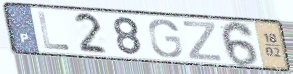2: (73, 12, 111, 57)
6: (219, 20, 261, 68)
8: (112, 15, 145, 57)
G: (146, 17, 184, 59)
L: (36, 11, 72, 52)
Z: (181, 19, 223, 63)
